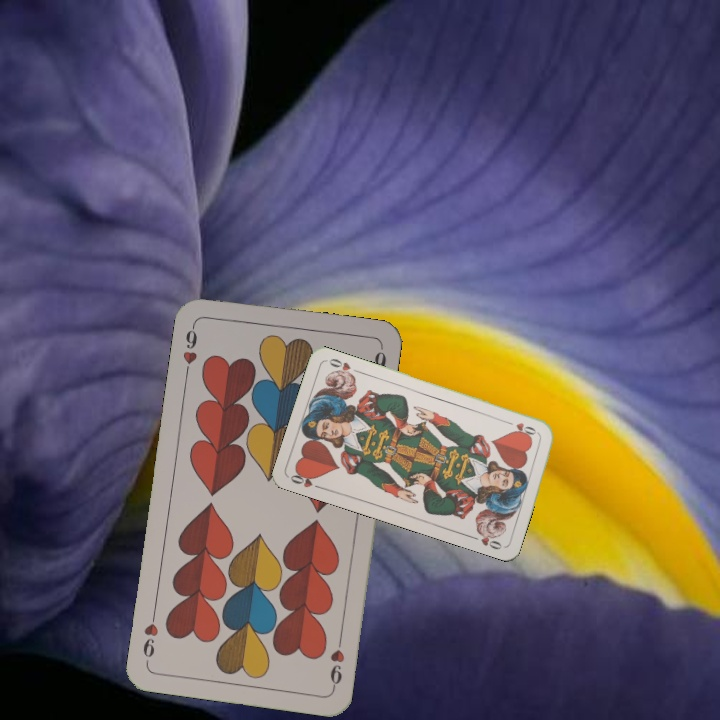H9: (178, 319, 200, 378), (326, 632, 347, 691)
HO: (286, 467, 325, 492), (502, 417, 541, 438)
